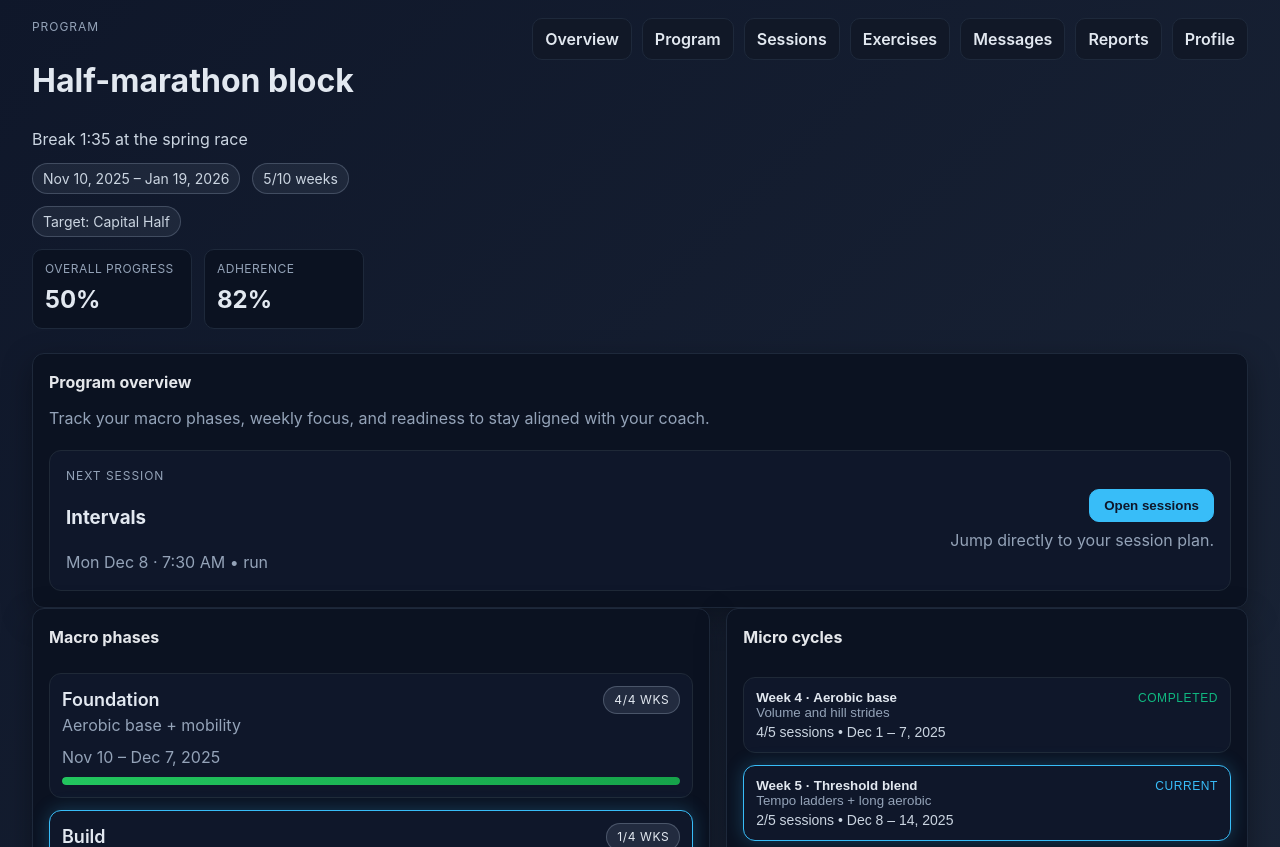
Test: ProgramPage experience › supports next session CTA and cycle navigation controls
Expected: the element with test id "next-session-card" is shown, [49, 450, 1231, 591]
Click the button "Open sessions" at (1152,506), box [1089, 489, 1214, 522]
(page scrolled)
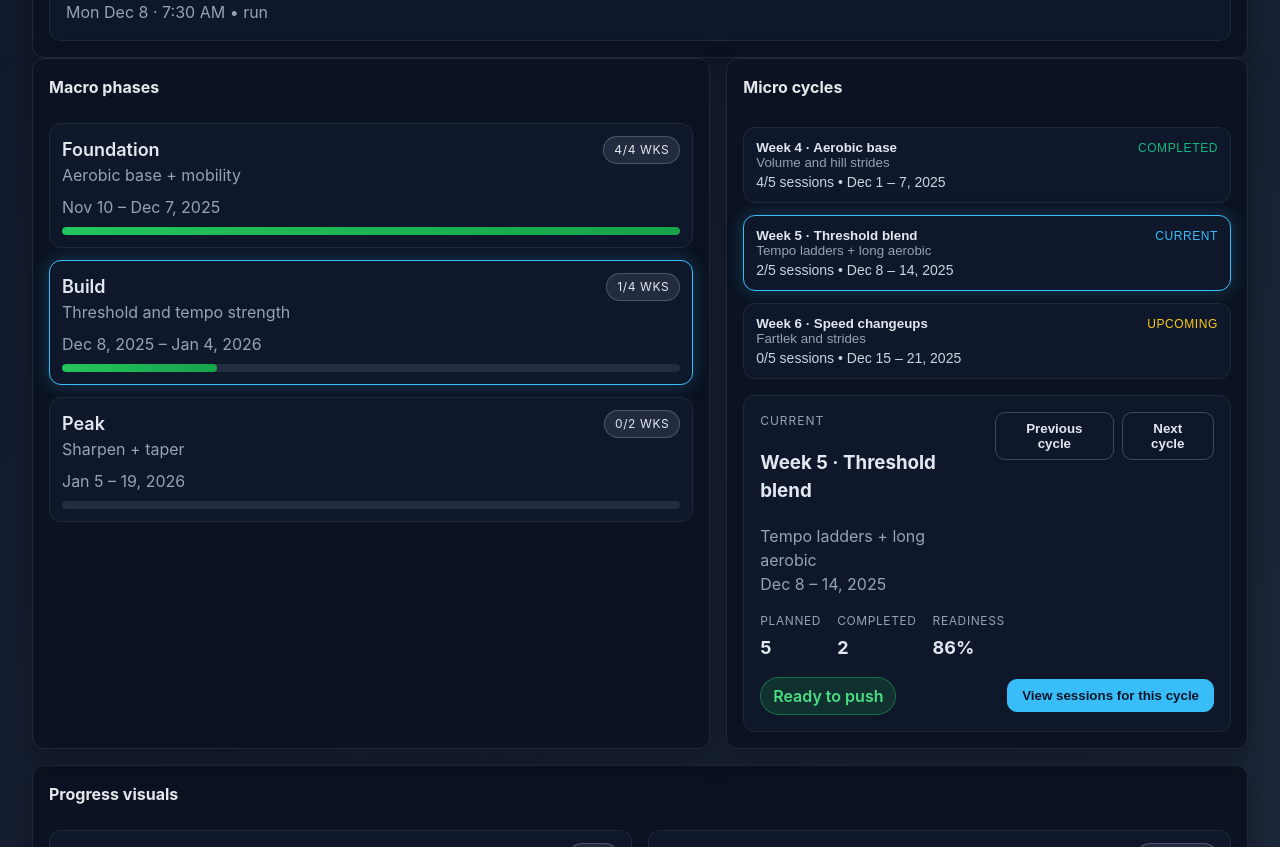
Click the button "Next cycle" at (1168,436), box [1122, 412, 1214, 460]
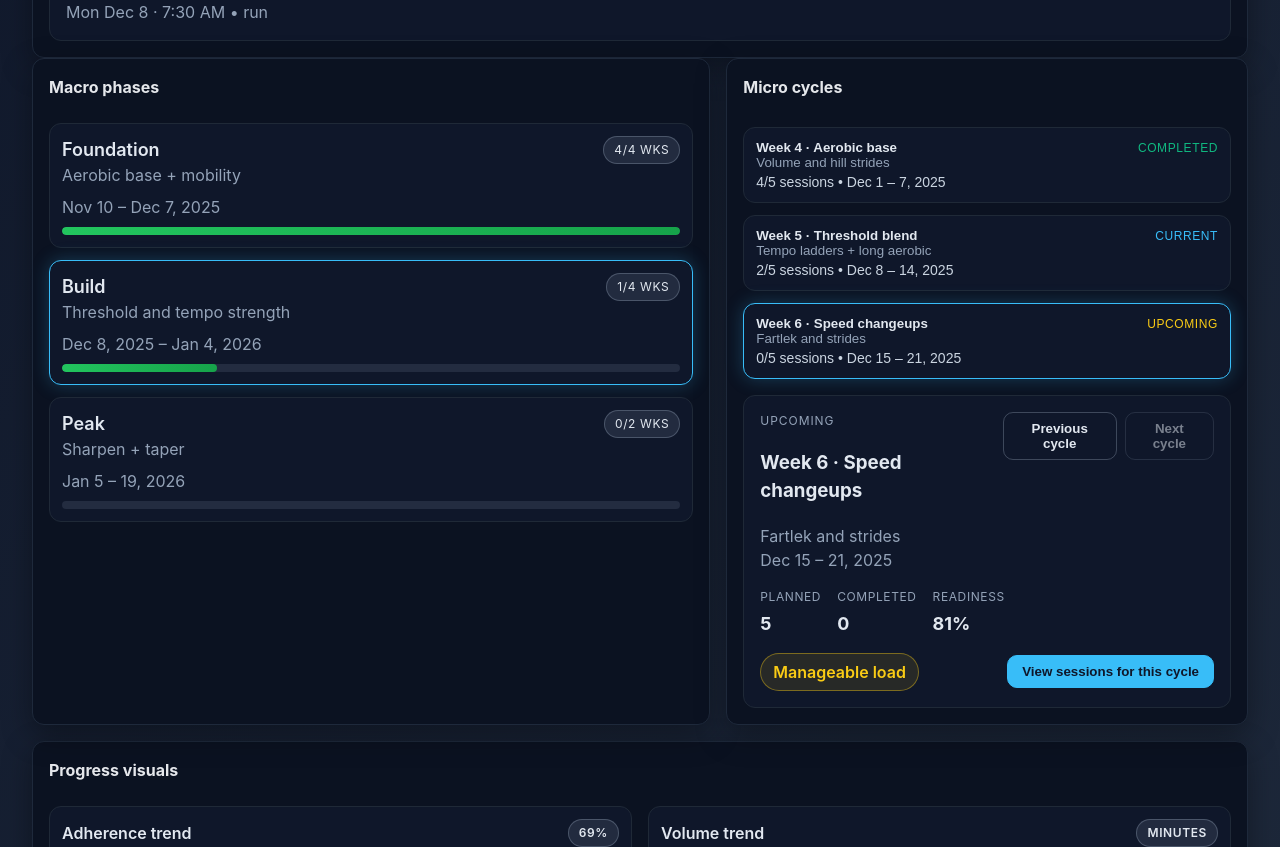
Now the heading "Week 6 · Speed changeups" is shown, box [760, 451, 902, 502]
Click the button "Previous cycle" at (1060,436), box [1003, 412, 1117, 460]
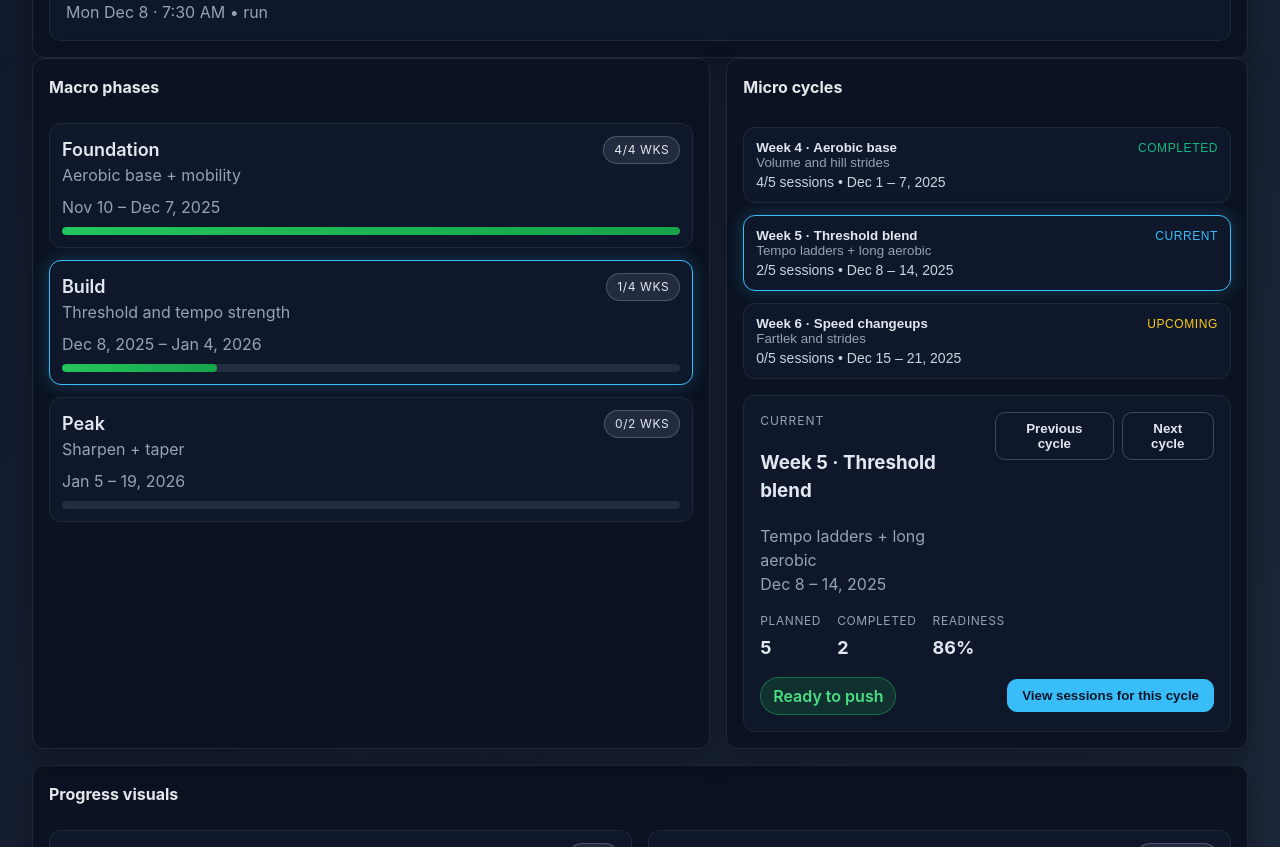
Now the heading "Week 5 · Threshold blend" is shown, box [760, 451, 936, 502]
